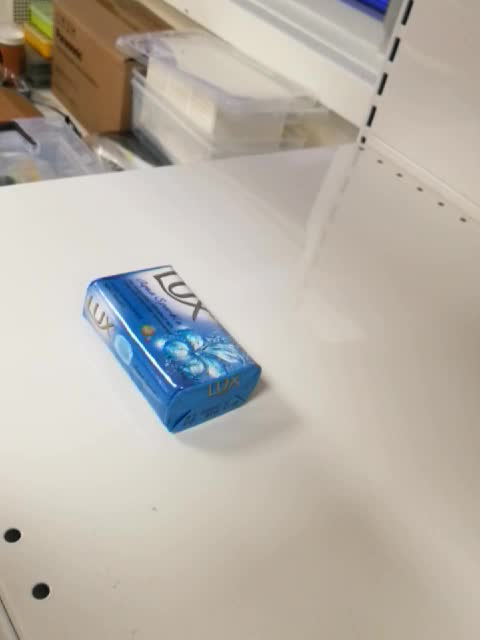soap: (81, 262, 264, 434)
